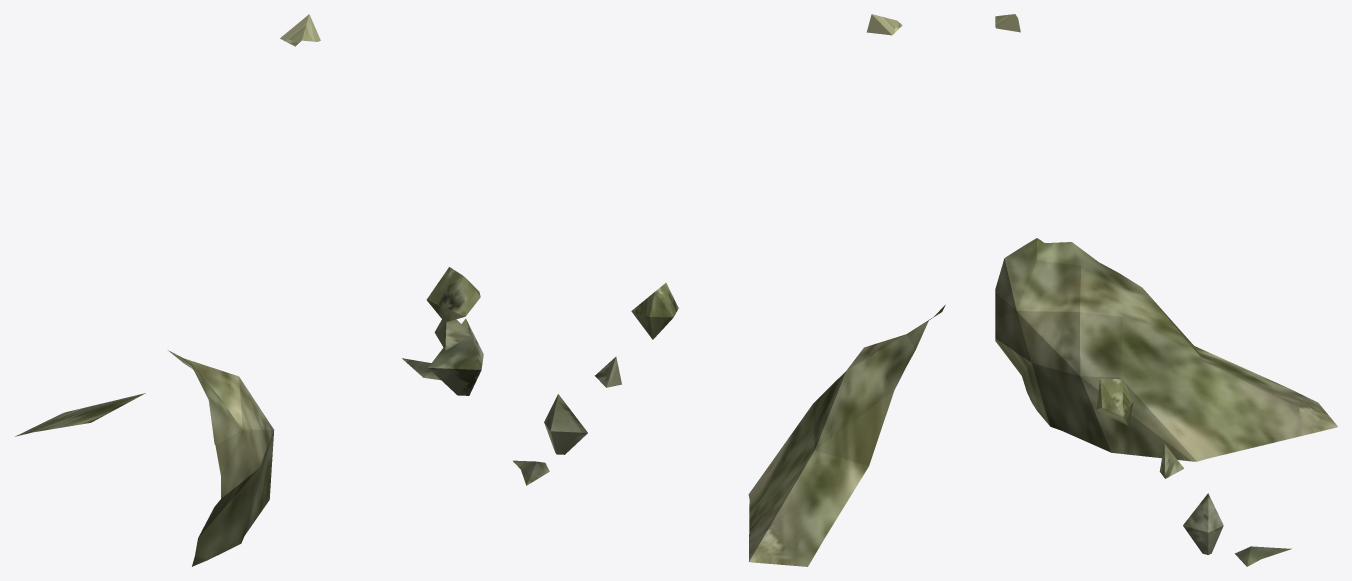
3 renders of one model, left to right at view 1: azimuth 30°, elevation 25°; view 2: azimuth 150°, elevation 25°; view 3: azimuth 270°, elevation 25°, orthographic. The views are drawn at different scales.
Bounding box in the file's own units: 1.4 × 1.72 × 1.24.
Materials: 1 (1 with a texture image).
